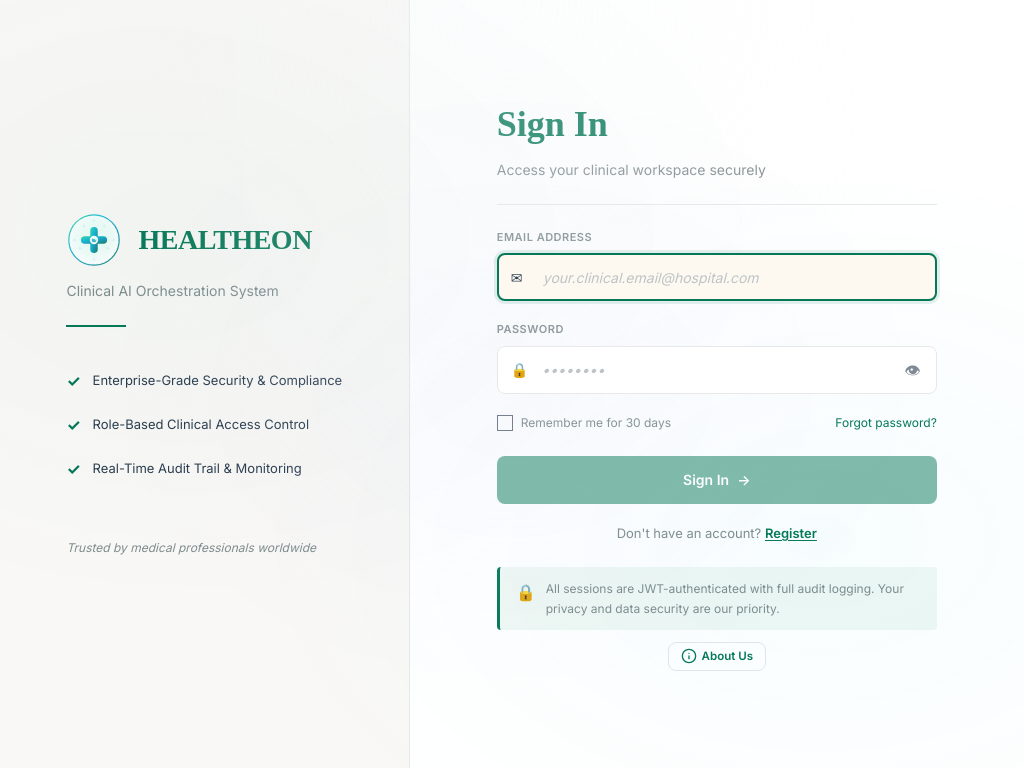
LoginScreen › shows error on login failure
The image size is (1024, 768).
Step 1. Type "a@b.com" into the field with placeholder "your.clinical.email@hospital.com" → (717, 277), box [497,253,937,301]
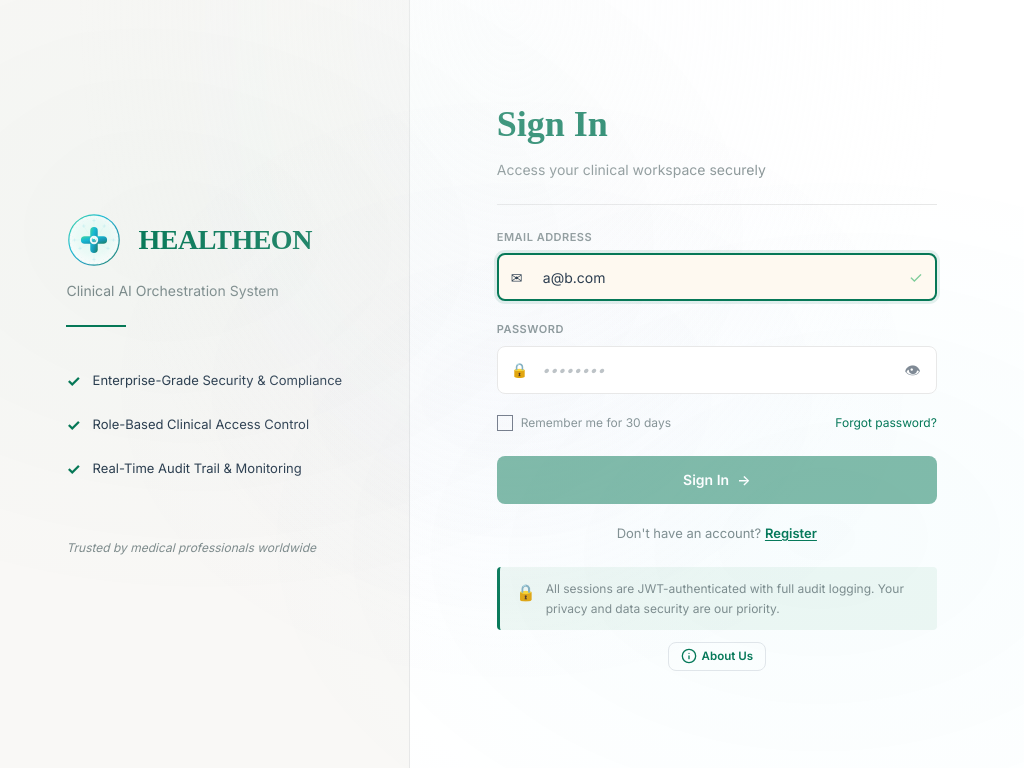
Step 2. Type "pass123" into the password field with placeholder "••••••••" → (717, 370), box [497,346,937,394]
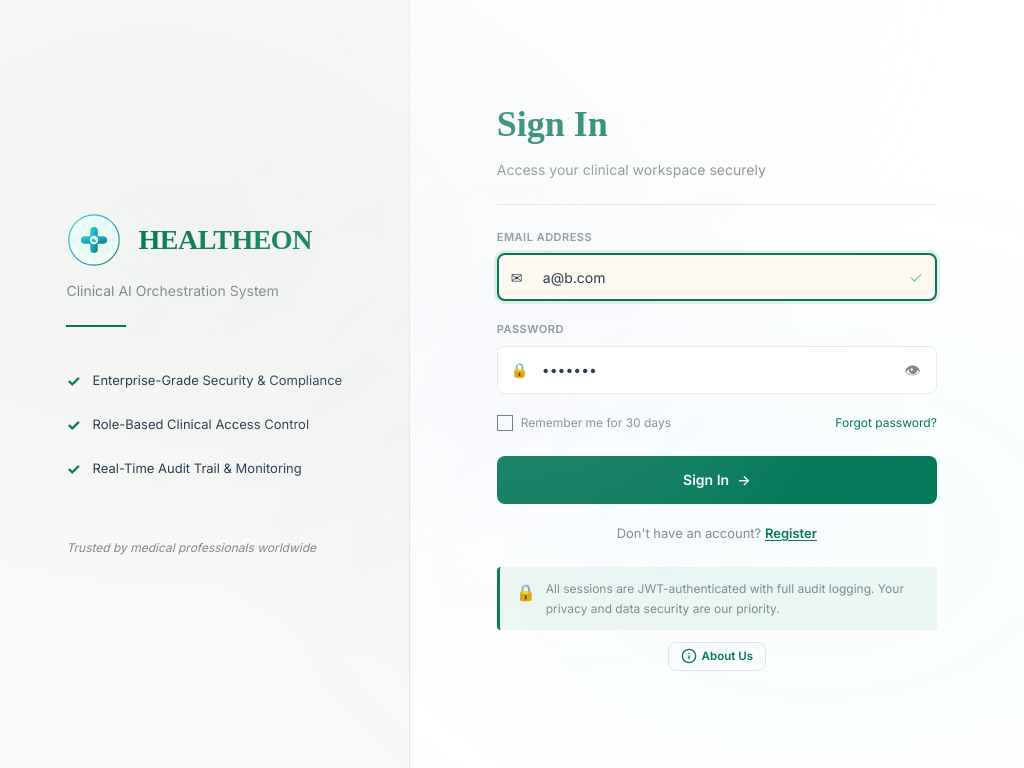
Step 3. Click the button "Sign In →" → click(717, 480), box [497,456,937,504]
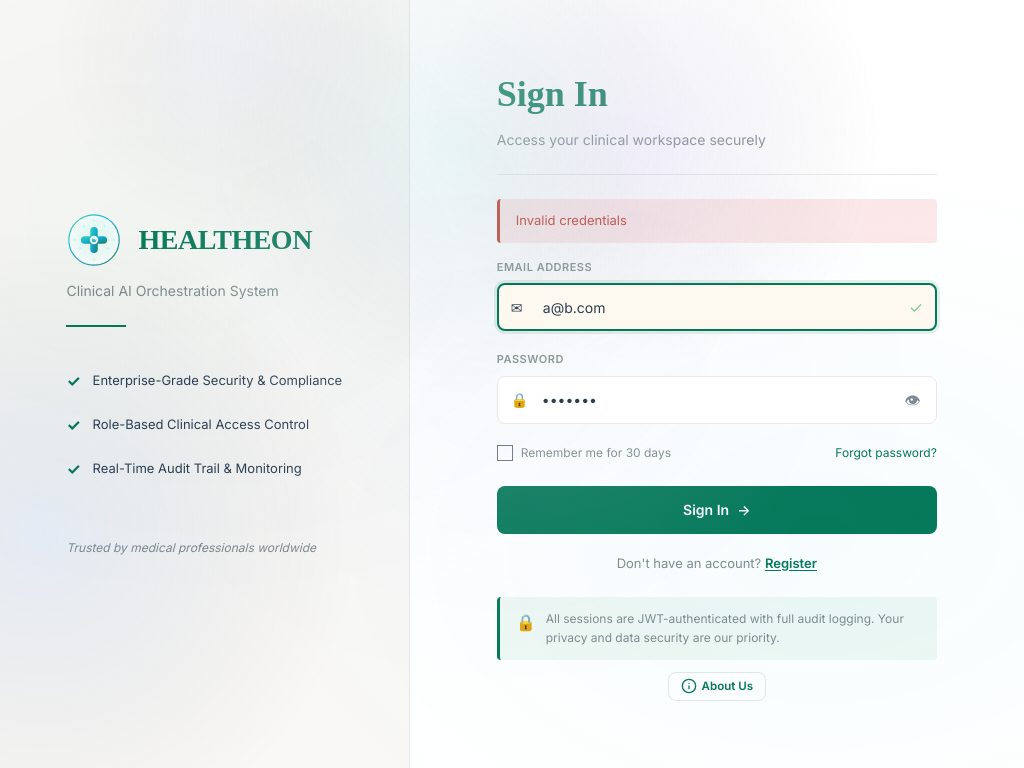
Now the text "Invalid credentials" is shown, box [497,199,937,243]
